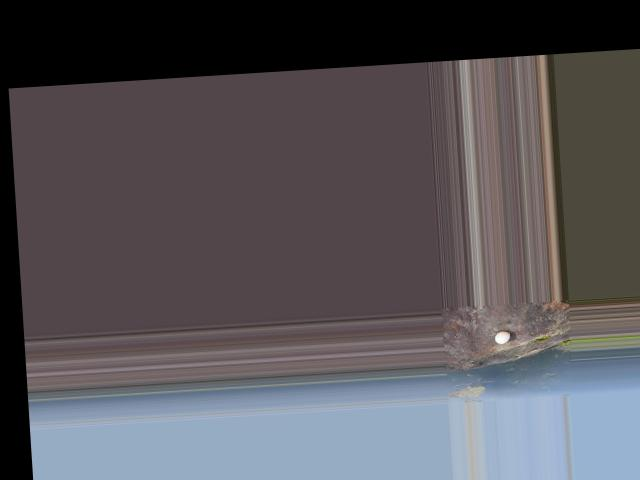egg: (493, 330, 510, 344)
